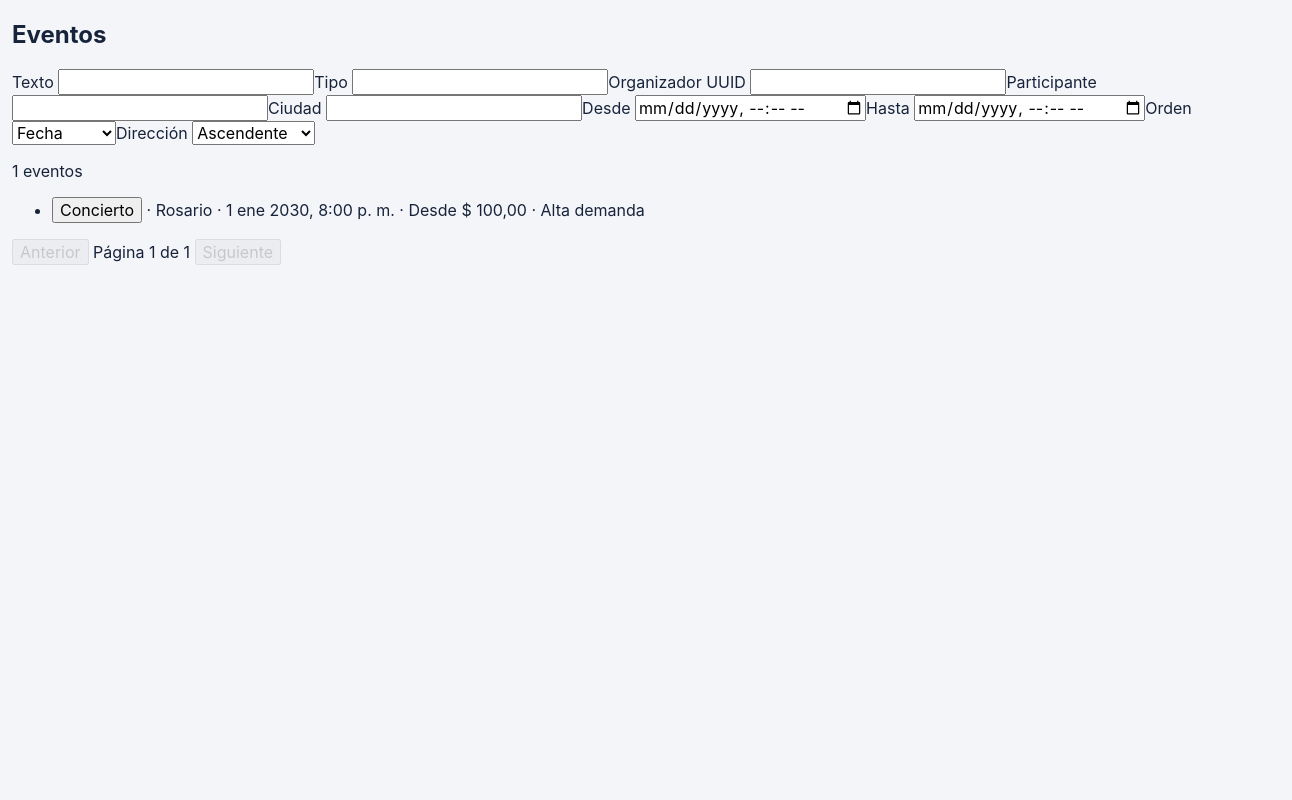
recorrido del cliente › exige admisión vigente en alta demanda y envía el token sólo al comprar
Click the button "Concierto" at point(97, 210), box [52,197,142,223]
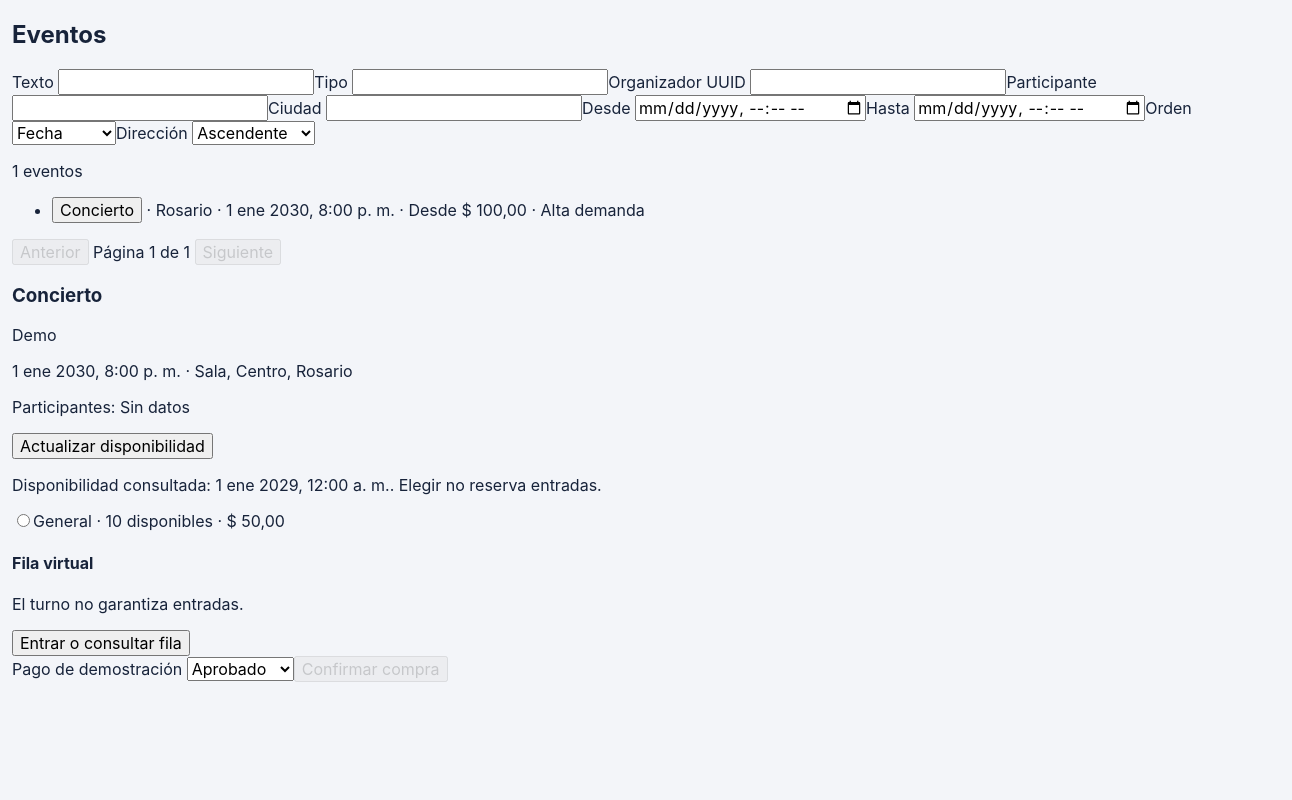
Click the radio button labelled "General · 10 disponibles · $ 50,00" at point(24, 521), box [17,514,30,527]
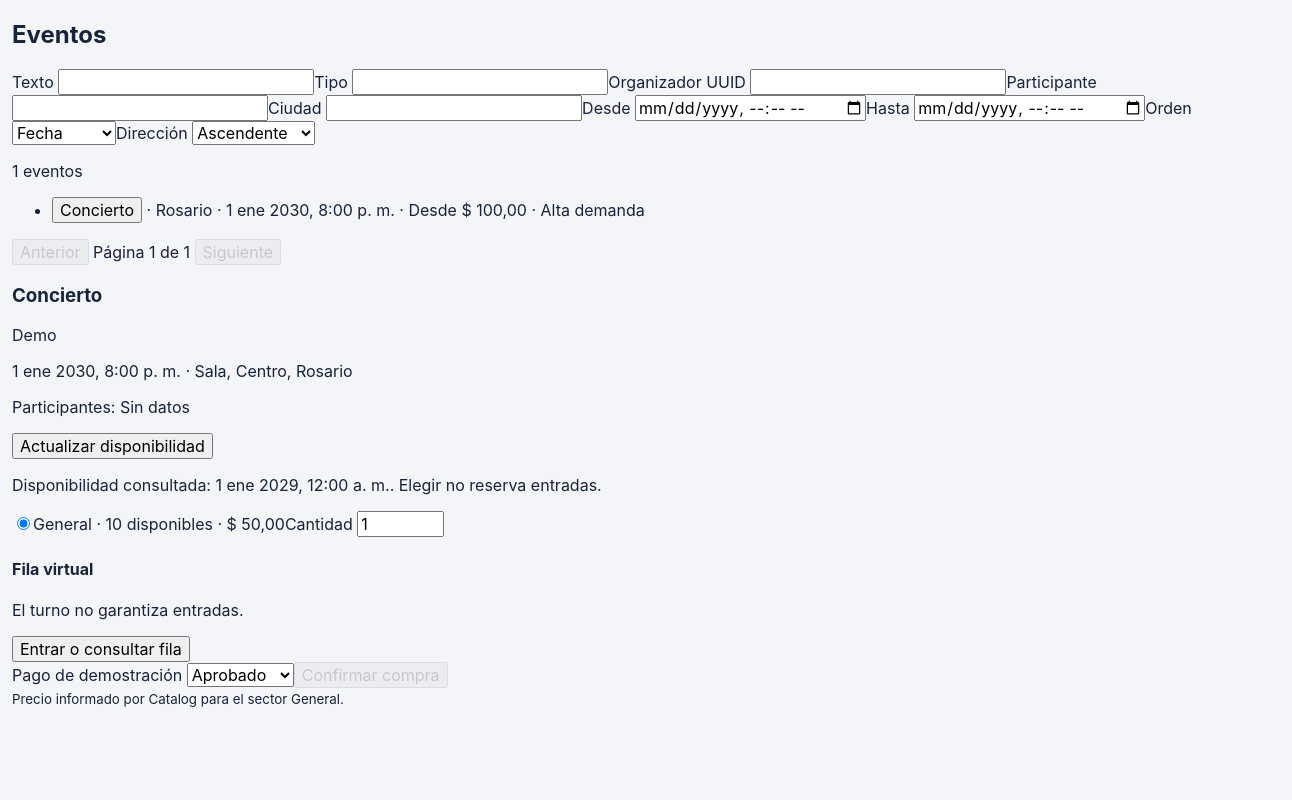
Result: the button "Confirmar compra" is disabled at [294,662,448,688]
Click the button "Entrar o consultar fila" at point(101, 649), box [12,636,190,662]
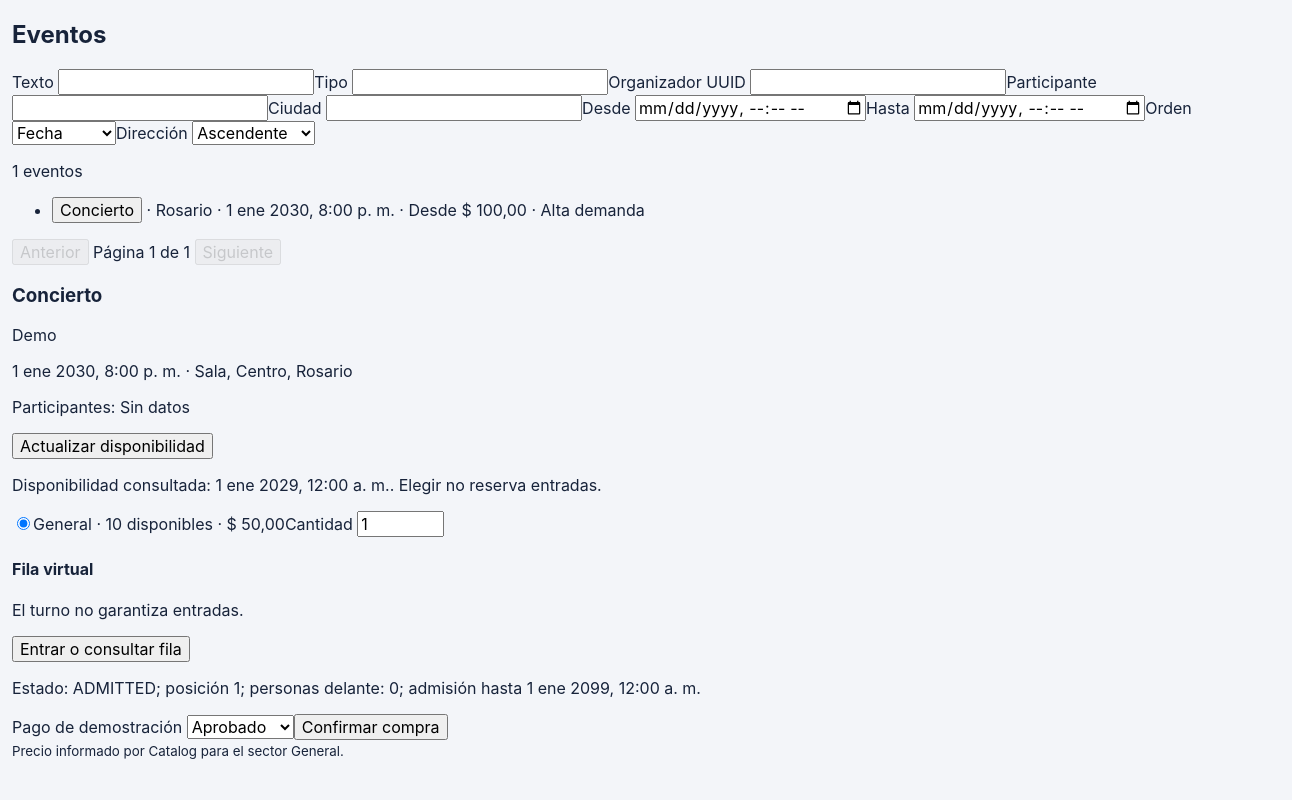
Result: the button "Confirmar compra" is enabled
Click the button "Confirmar compra" at point(371, 727), box [294,714,448,740]
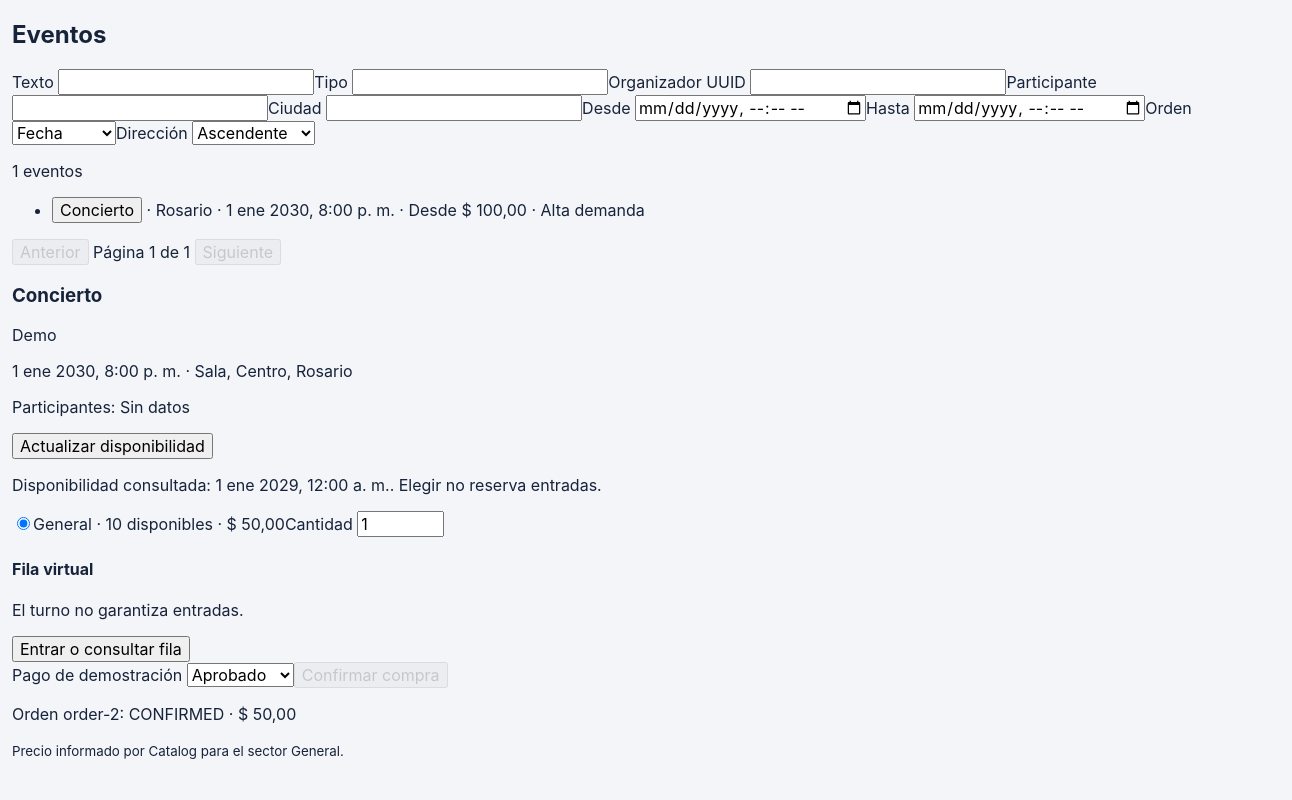
Result: the text "Orden order-2: CONFIRMED · $ 50,00" is shown at [12,704,296,724]
